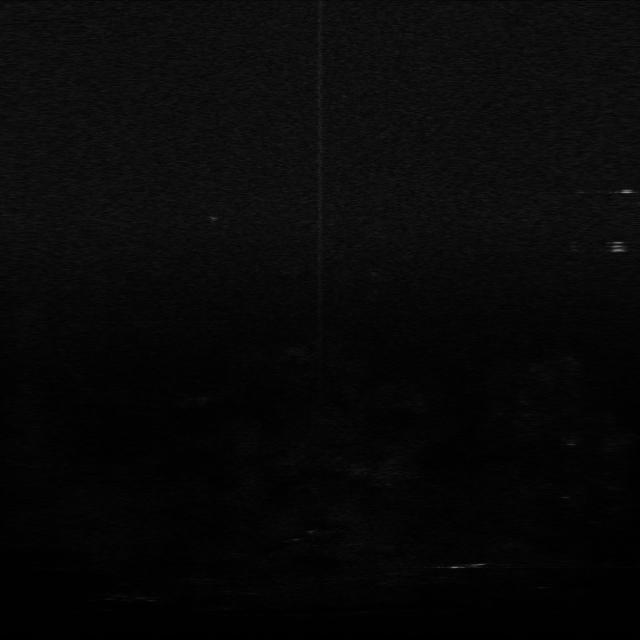rov: (607, 234, 629, 258)
